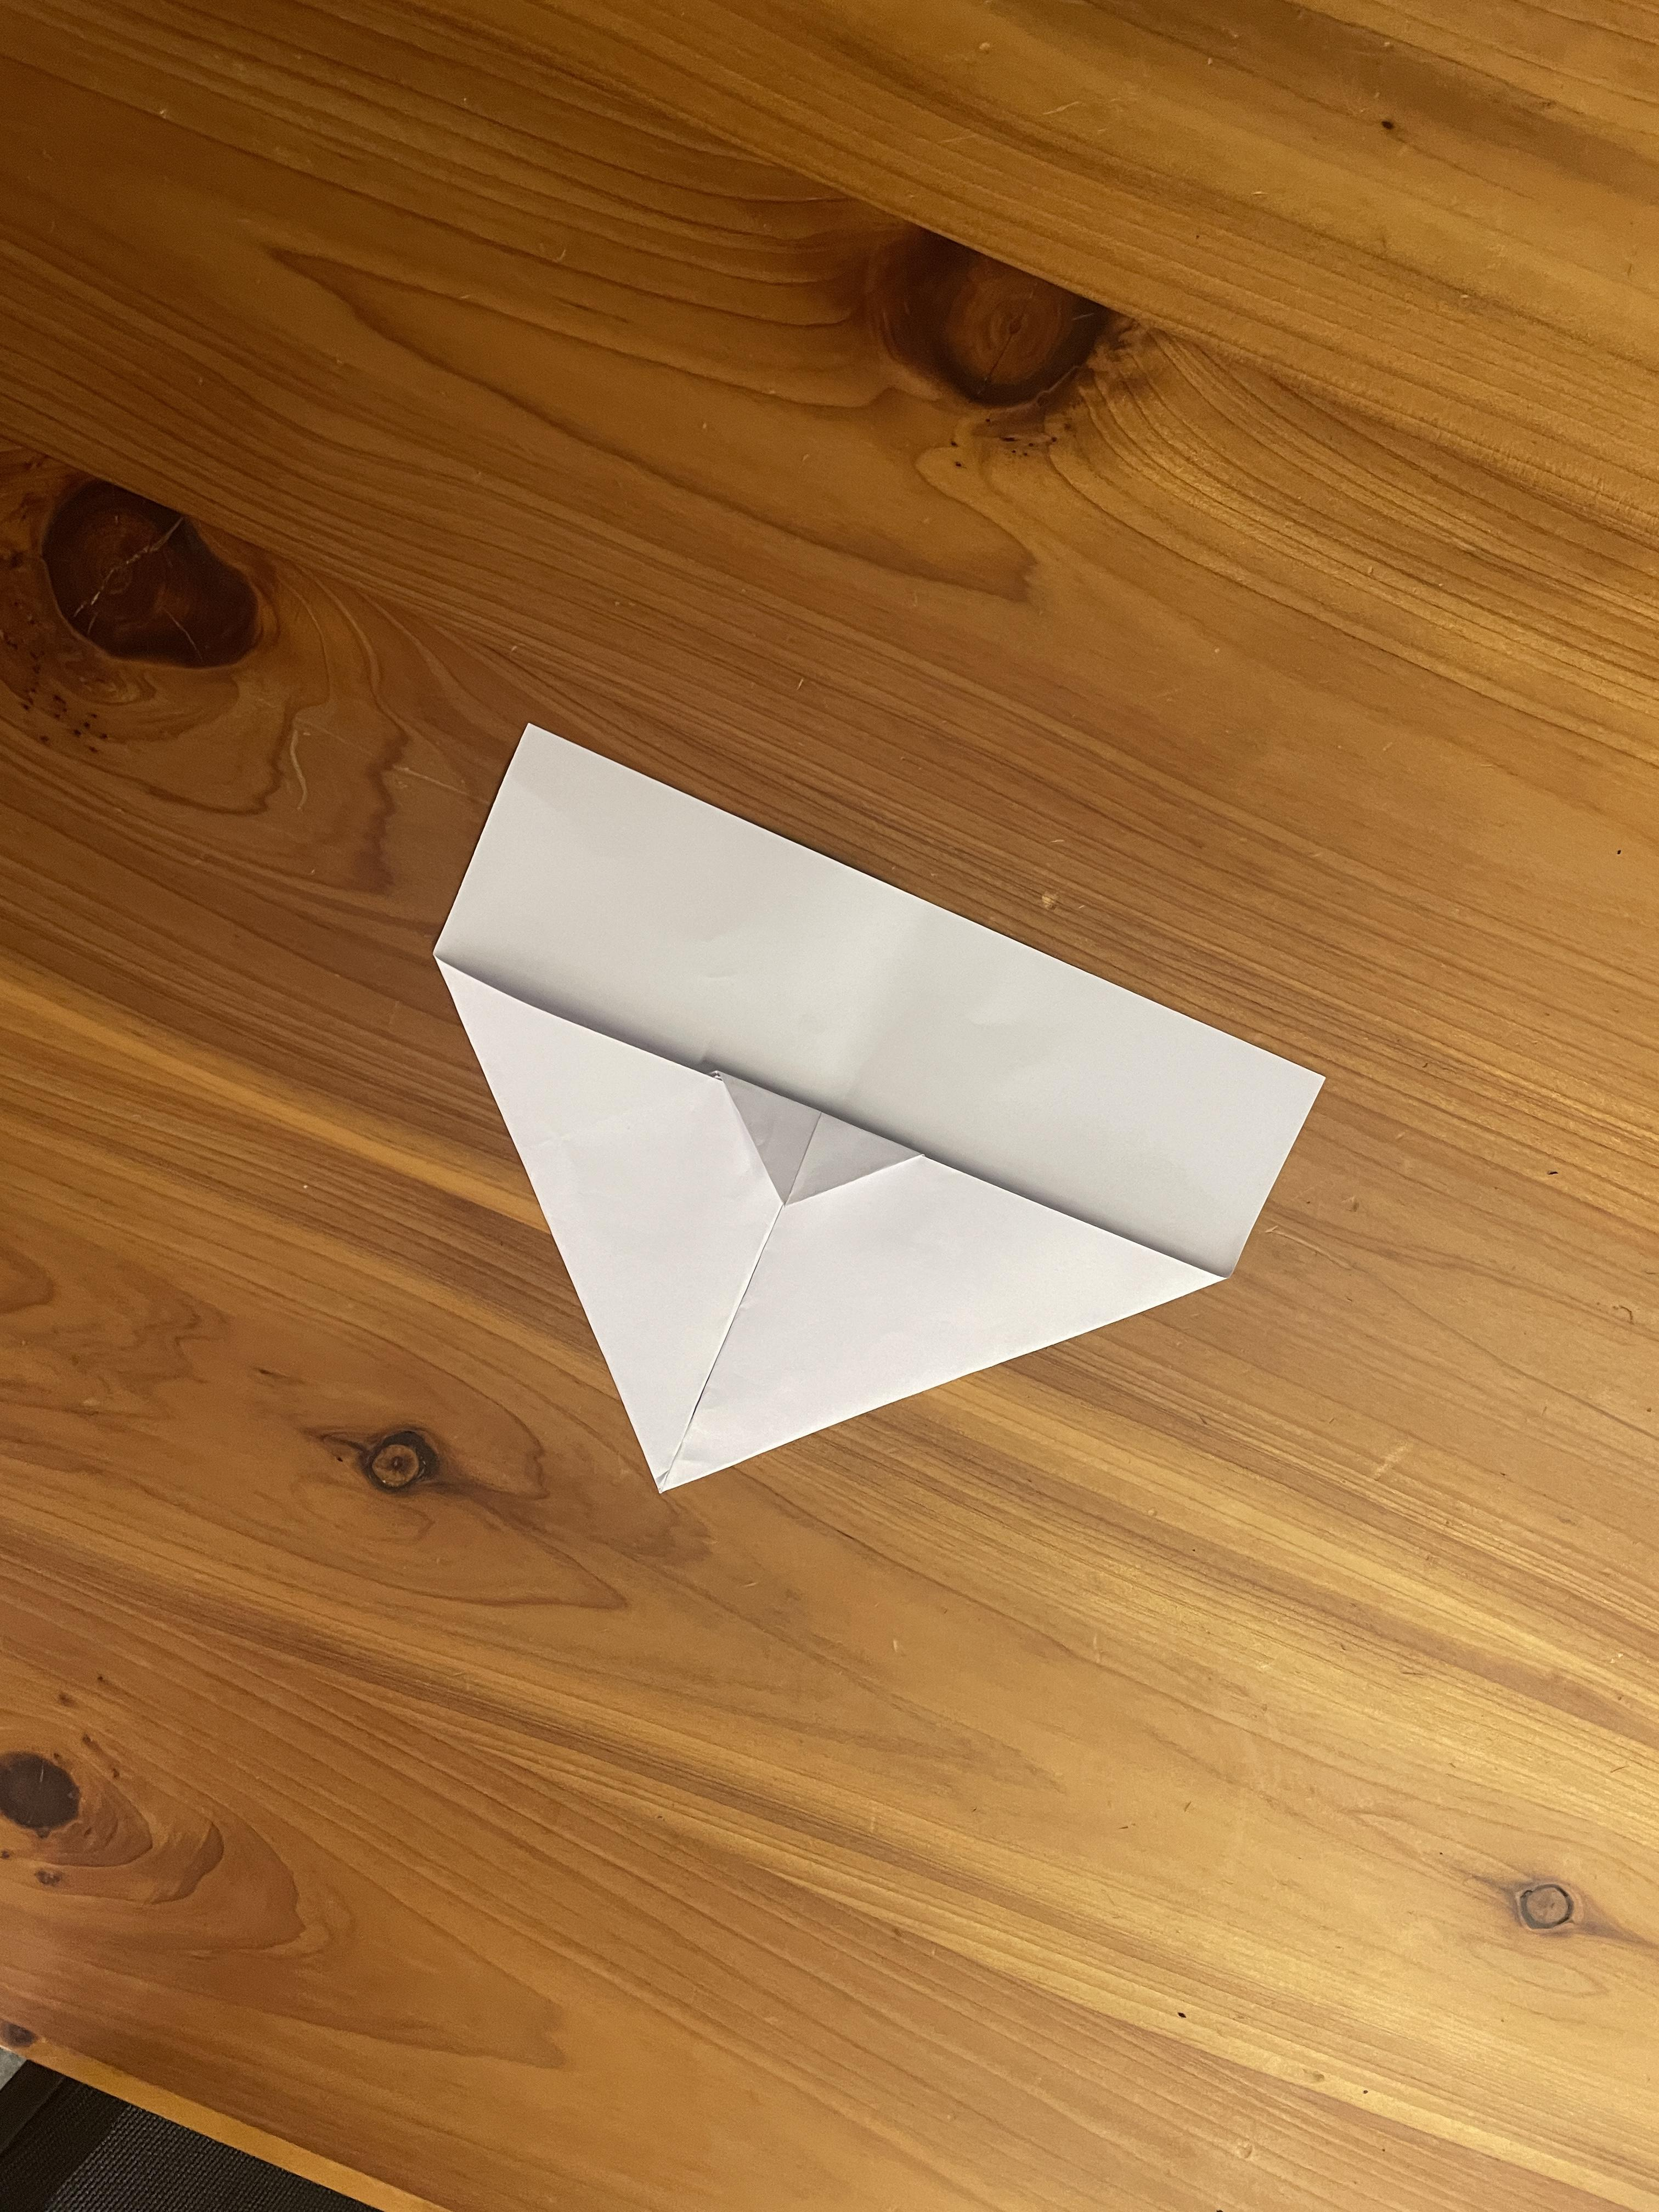shape_2: (153, 479, 1659, 1977)
